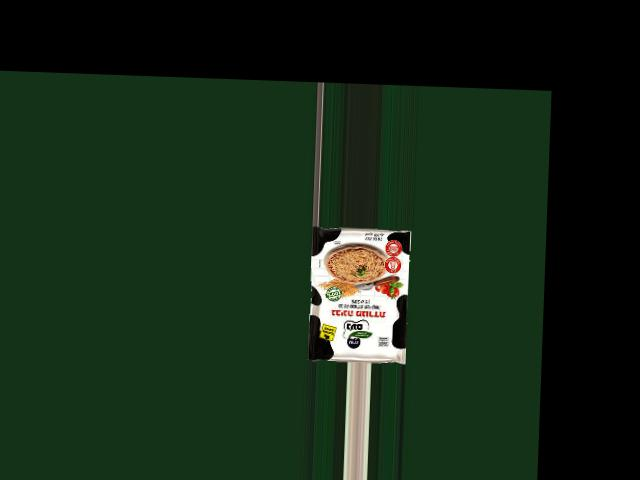cheese: (305, 232, 427, 354)
